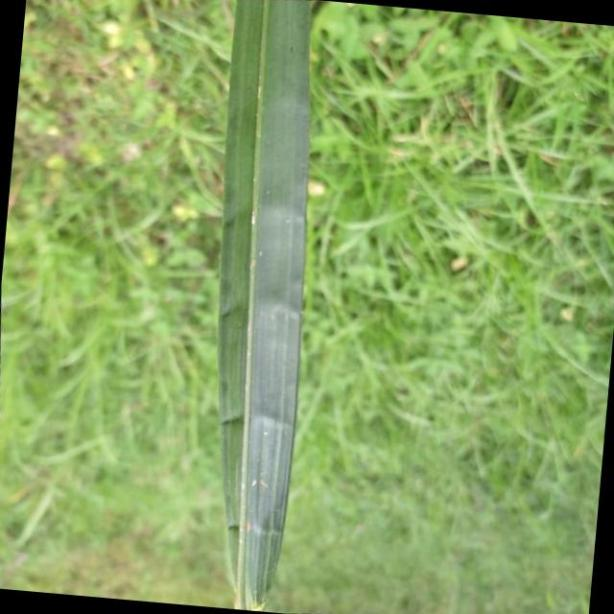Boron: (216, 0, 313, 614)
